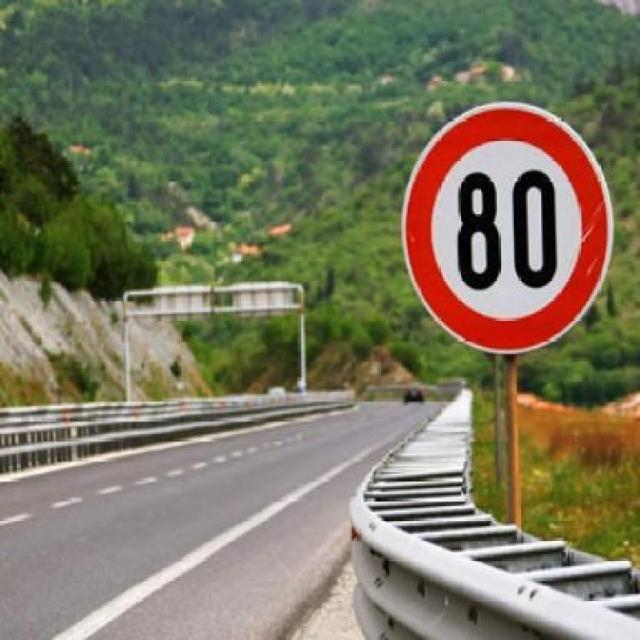forb_speed_over_80: (406, 104, 609, 344)
